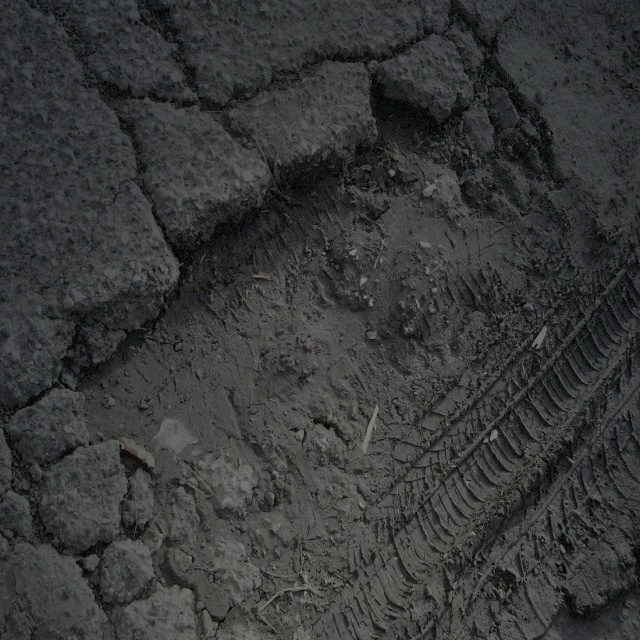pothole: (56, 45, 571, 556)
